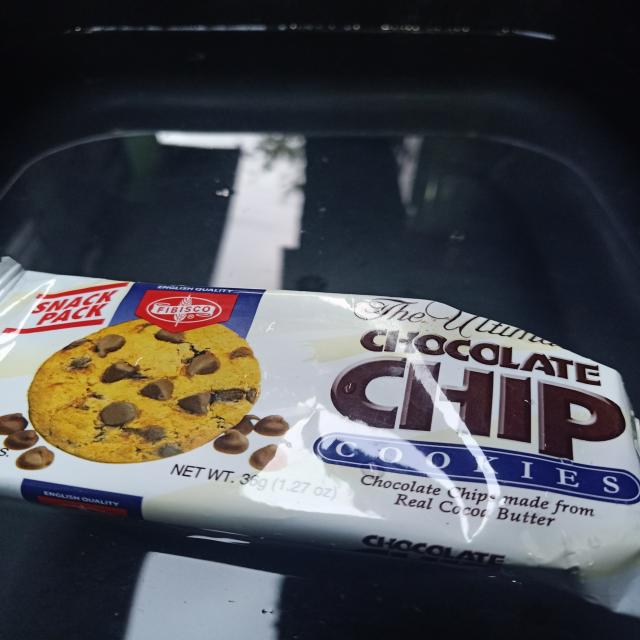Plastic Wrapper: (0, 240, 640, 627)
